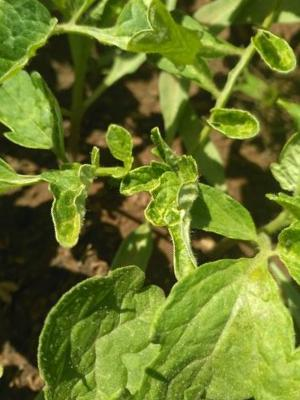Tomato leaf mosaic virus: (134, 230, 300, 400), (91, 125, 246, 286), (20, 135, 128, 266), (155, 163, 271, 271), (0, 57, 99, 174), (196, 87, 274, 161), (256, 212, 300, 303), (260, 118, 300, 202)
